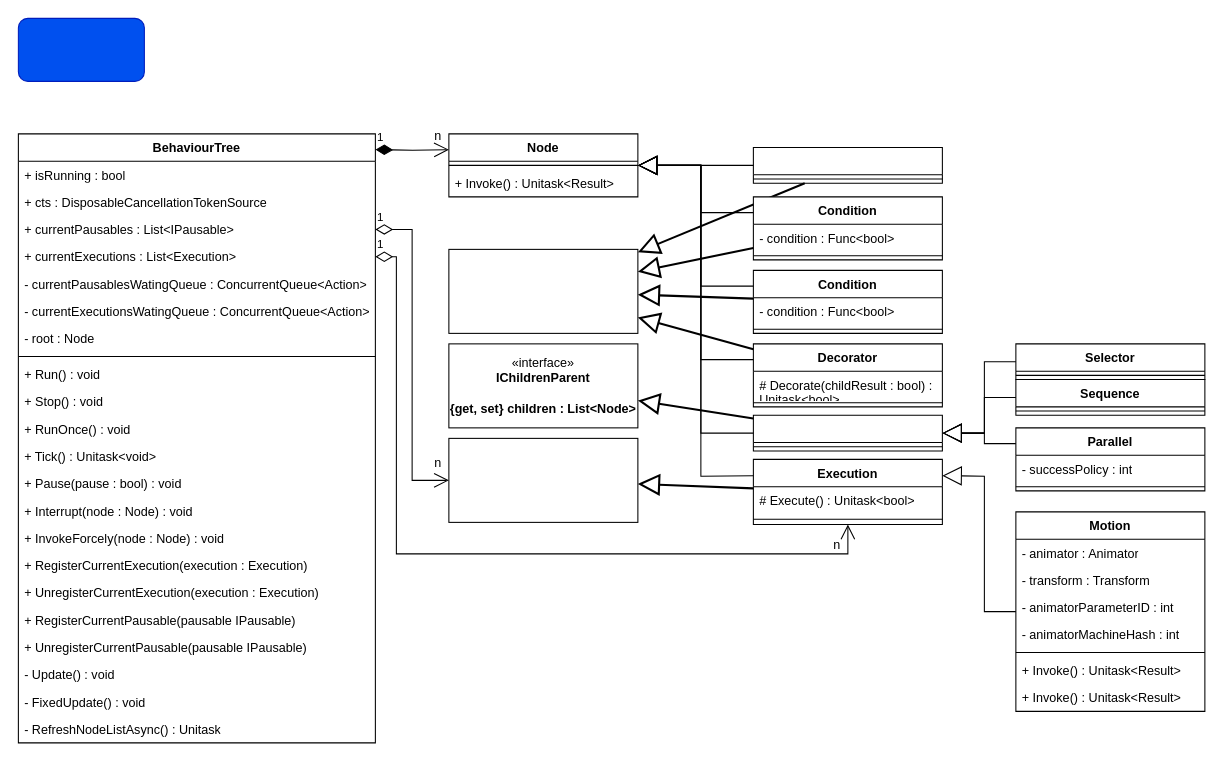
Some shapes in this 1223 by 764 pixel diagram are drawn without their labels. The shapes that lost their labels are listed below. From the top down, each one's centre as x and y in pixels, then its label:
At [80,49]: "UML".
At [847,164]: "Root".
At [543,290]: "«interface» IChildParent {get, set} child : Node".
At [847,432]: "Composite".
At [543,479]: "«interface» IPausable {get} isPaused : bool Pause(pause : bool) : void".
